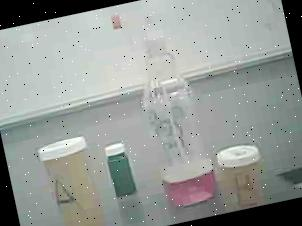Bottle A: (26, 125, 119, 226)
Bottle B: (214, 132, 276, 212)
Bottle C: (101, 134, 145, 204)
hazard: (103, 0, 224, 219)
